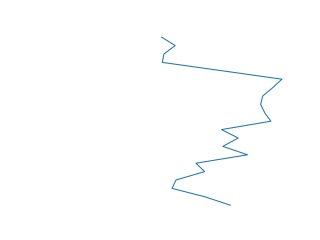floodPlain: (158, 35, 284, 207)
